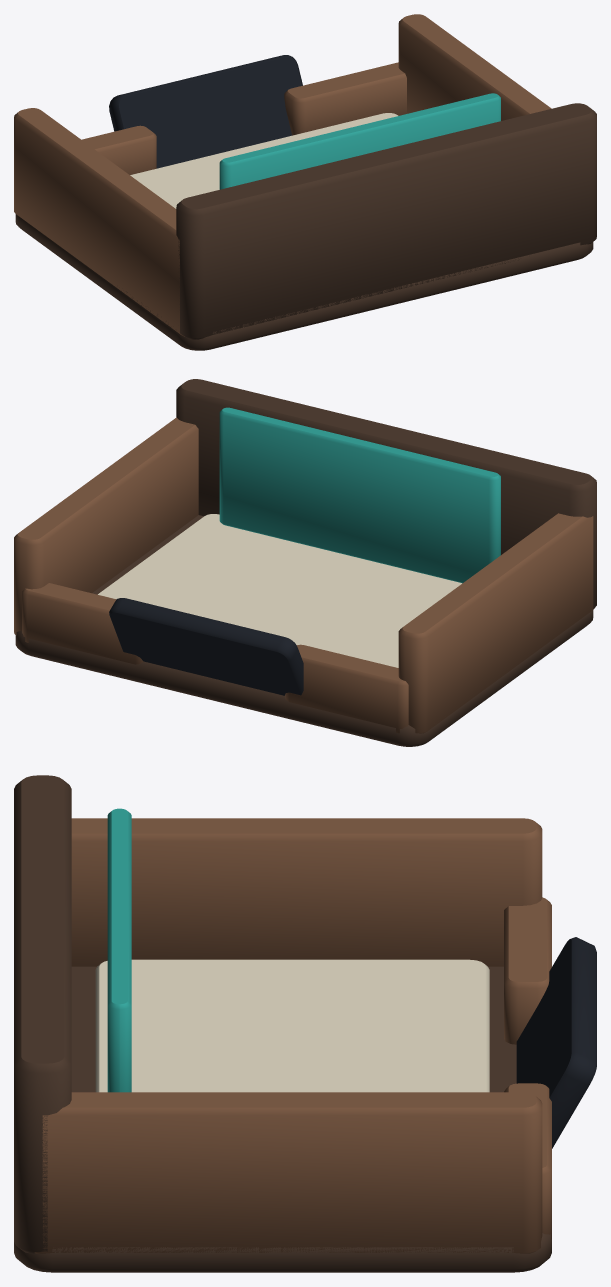
The model's file is Doc_ArchiveTray_Polished.fbx.
The picture shows the model from 3 angles, top to bottom: view 1: azimuth 30°, elevation 25°; view 2: azimuth 150°, elevation 25°; view 3: azimuth 270°, elevation 25°; orthographic projection. The views are drawn at different scales.
Parts seen in each view (by area): view 1: ArchiveTray_TrayWood, ArchiveTray_WarmWood, ArchiveTray_Plate, ArchiveTray_AccentTeal, ArchiveTray_PaperEdge; view 2: ArchiveTray_WarmWood, ArchiveTray_AccentTeal, ArchiveTray_TrayWood, ArchiveTray_PaperEdge, ArchiveTray_Plate; view 3: ArchiveTray_WarmWood, ArchiveTray_PaperEdge, ArchiveTray_TrayWood, ArchiveTray_Plate, ArchiveTray_AccentTeal.
Boxes of the visible parts, x1,y1,x2,y2 form: ArchiveTray_TrayWood: [15, 103, 596, 350]; ArchiveTray_WarmWood: [14, 14, 551, 336]; ArchiveTray_Plate: [109, 55, 302, 168]; ArchiveTray_AccentTeal: [219, 93, 500, 189]; ArchiveTray_PaperEdge: [130, 113, 398, 208]; ArchiveTray_WarmWood: [14, 417, 594, 733]; ArchiveTray_AccentTeal: [219, 407, 500, 583]; ArchiveTray_TrayWood: [15, 379, 596, 746]; ArchiveTray_PaperEdge: [98, 514, 461, 667]; ArchiveTray_Plate: [109, 598, 303, 695]; ArchiveTray_WarmWood: [34, 818, 551, 1253]; ArchiveTray_PaperEdge: [95, 959, 489, 1092]; ArchiveTray_TrayWood: [14, 775, 551, 1272]; ArchiveTray_Plate: [516, 937, 596, 1148]; ArchiveTray_AccentTeal: [107, 808, 131, 1092].
Size of the model in its own units: 14.5 by 5.1 by 12.14.
